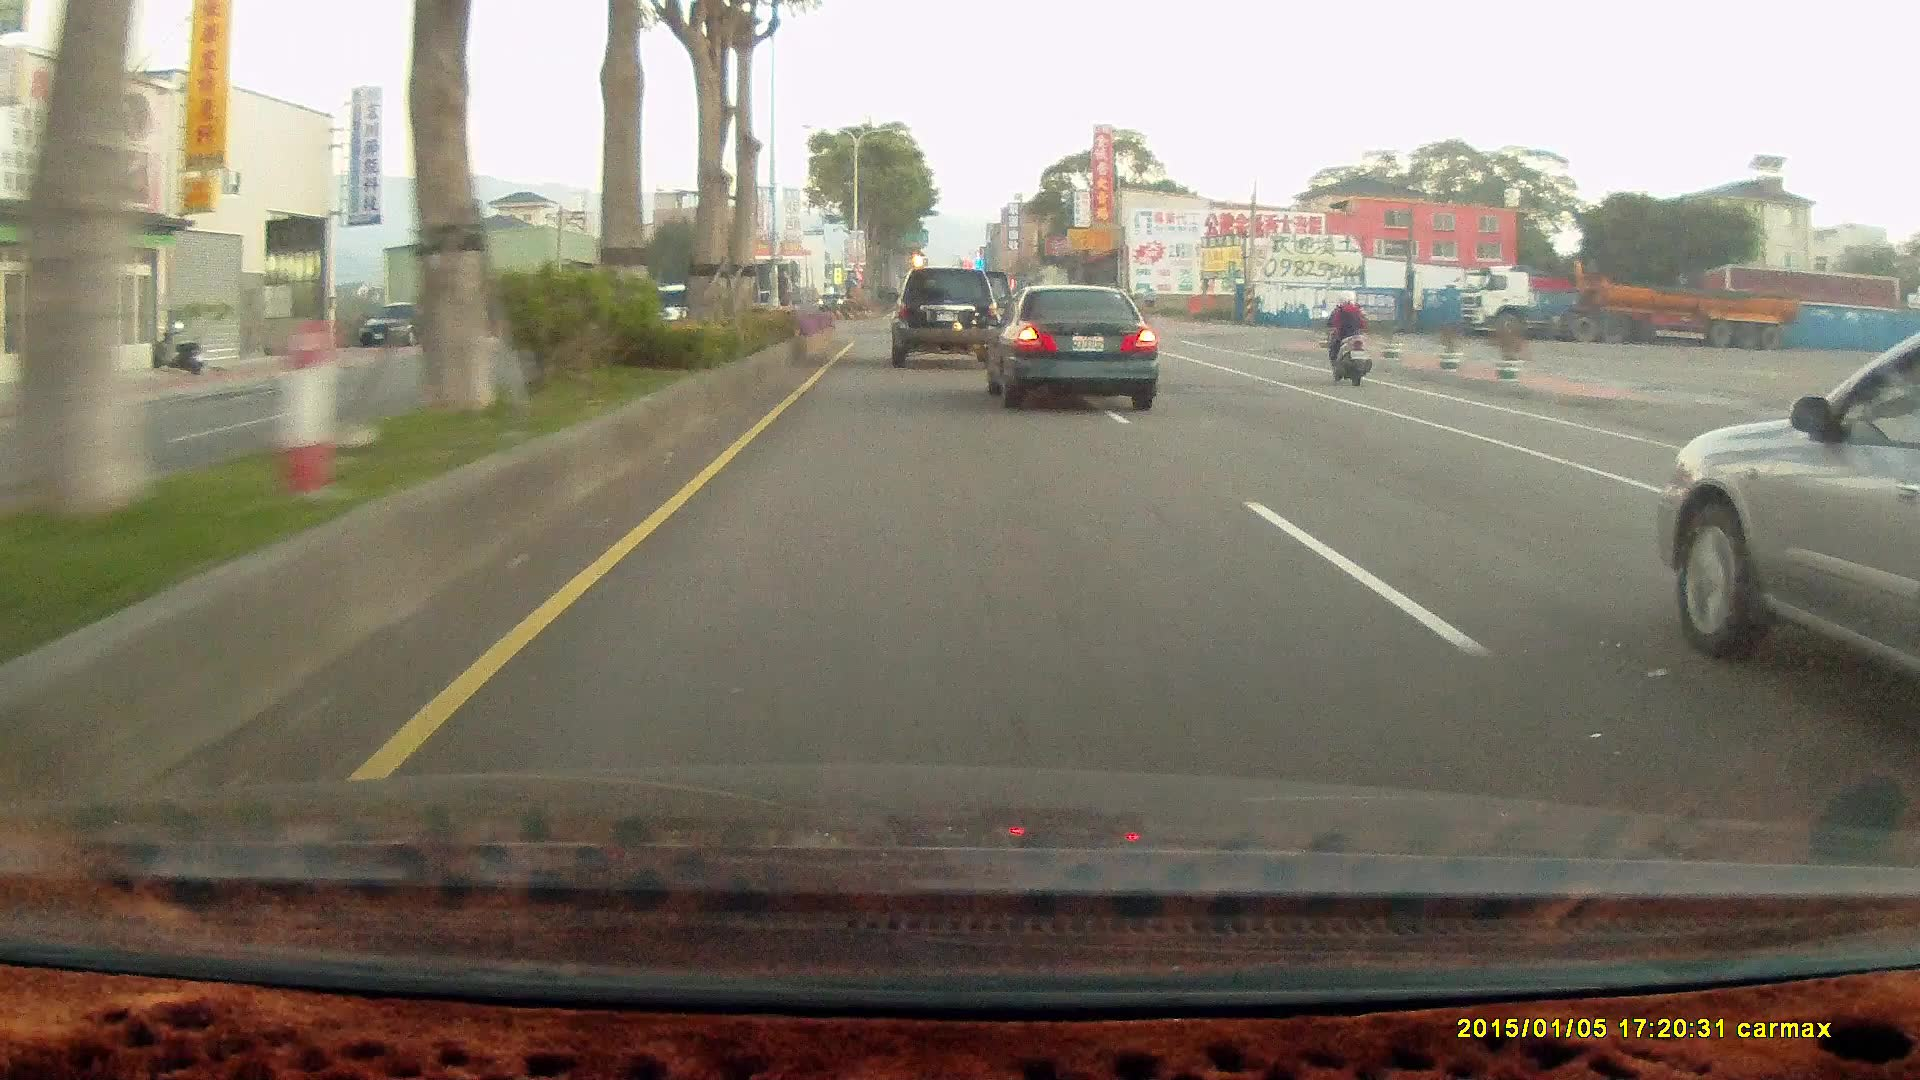rider: (1315, 283, 1379, 391), (1317, 288, 1372, 385)
vehicle: (1655, 319, 1920, 700), (1451, 266, 1793, 350), (982, 281, 1160, 411), (982, 286, 1155, 408), (889, 263, 999, 366), (885, 266, 999, 367), (360, 299, 435, 350), (360, 299, 435, 347)
